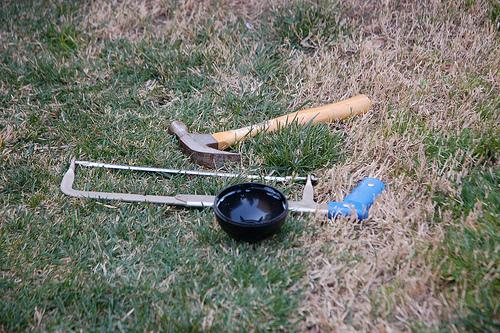hammer: (166, 89, 372, 168)
